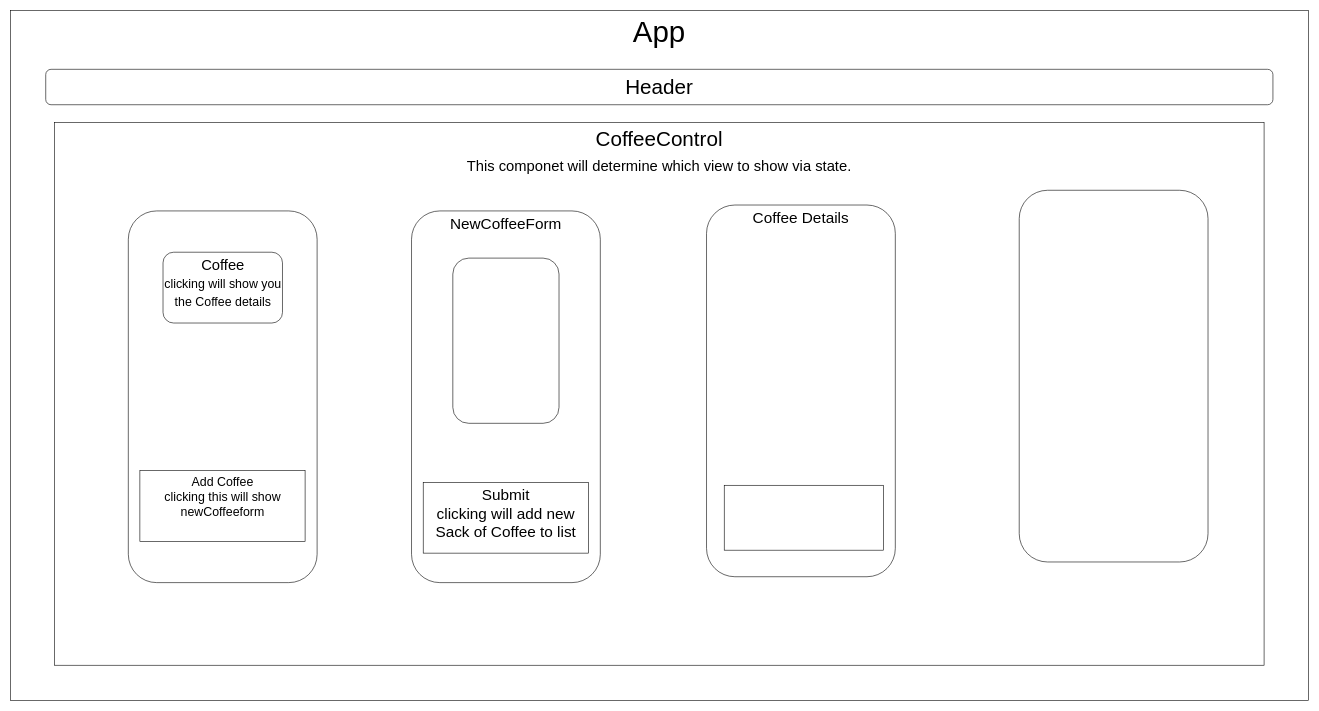
Some shapes in this 1319 by 711 pixel diagram are drawn without their labels. Here are the shapes that lost their labels. From the top down, the box of each, then its label:
(452, 258, 559, 423): resuable form
(1019, 190, 1208, 562): TBD WIP
(128, 210, 317, 583): CoffeeList
(724, 485, 884, 550): Sell coffee this button will sell one pound of coffee
